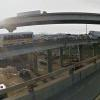Bridge: (5, 5, 95, 42)
